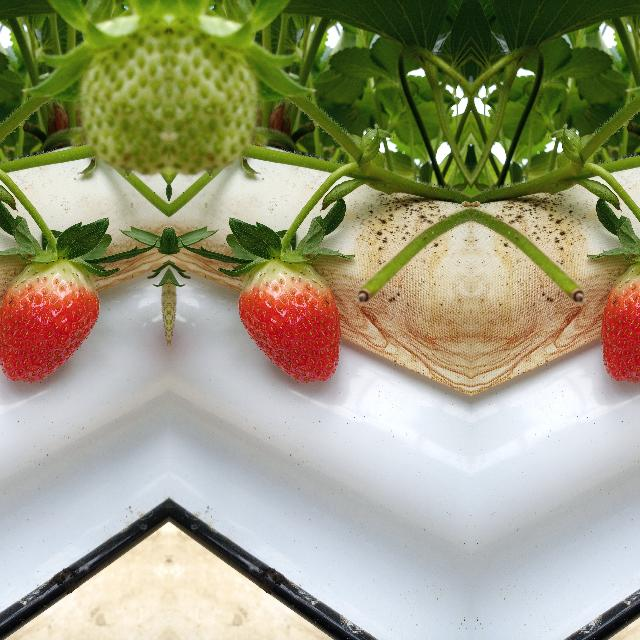Health_100: (236, 259, 340, 383), (0, 259, 100, 383), (601, 259, 640, 383)
Health_25: (172, 8, 258, 170), (78, 8, 164, 170)
